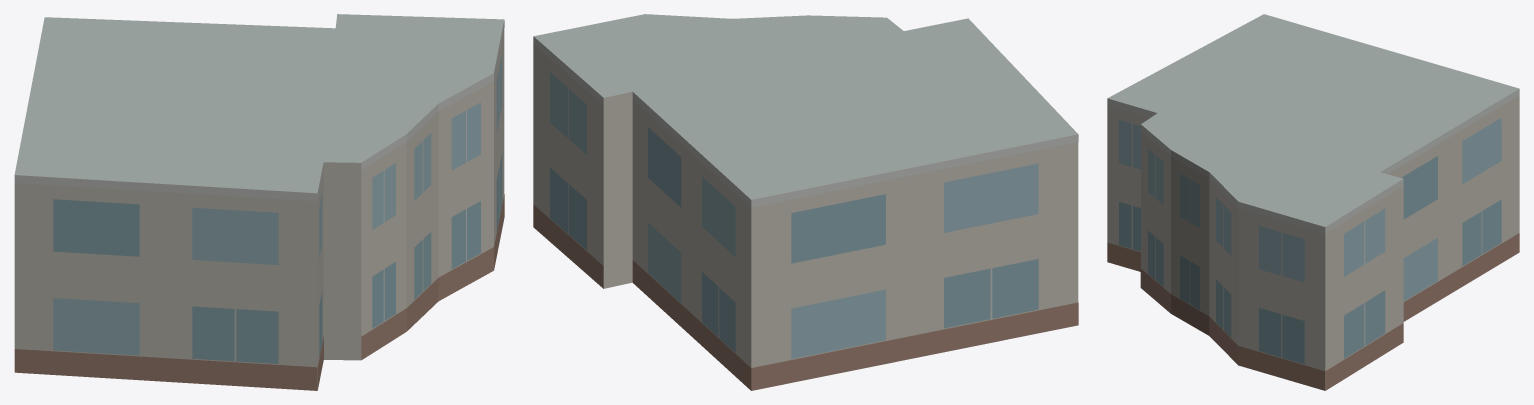
Rendered from survey-upis-33007266.glb.
3 views of the same model, side by side, from view 1: azimuth 30°, elevation 25°; view 2: azimuth 150°, elevation 25°; view 3: azimuth 270°, elevation 25° (orthographic). The views are drawn at different scales.
Parts seen in each view (by area): view 1: survey-upis-33007266.tmp; view 2: survey-upis-33007266.tmp; view 3: survey-upis-33007266.tmp.
Boxes of the visible parts, left/top/right/bottom form: survey-upis-33007266.tmp: left=14, top=14, right=504, bottom=390; survey-upis-33007266.tmp: left=533, top=14, right=1078, bottom=390; survey-upis-33007266.tmp: left=1107, top=14, right=1519, bottom=390.
Size of the model in its own units: 17.04 by 6.1 by 13.93.
